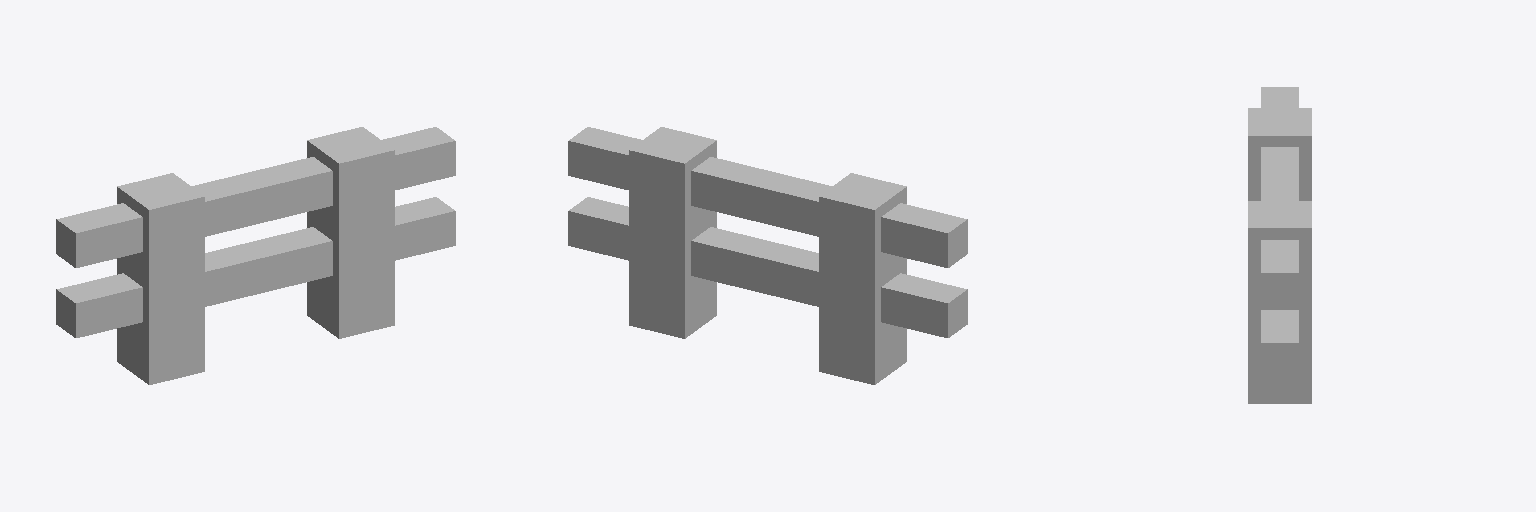
The model's file is fence2.obj.
3 views of the same model, side by side, from view 1: azimuth 30°, elevation 25°; view 2: azimuth 150°, elevation 25°; view 3: azimuth 270°, elevation 25° (orthographic).
Parts seen in each view (by area): view 1: object 1; view 2: object 1; view 3: object 1.
Boxes of the visible parts, x1,y1,x2,y2 form: object 1: [56, 127, 455, 384]; object 1: [568, 127, 967, 384]; object 1: [1248, 87, 1311, 403].
Bounding box in the file's own units: 3.4 × 1.5 × 0.5.